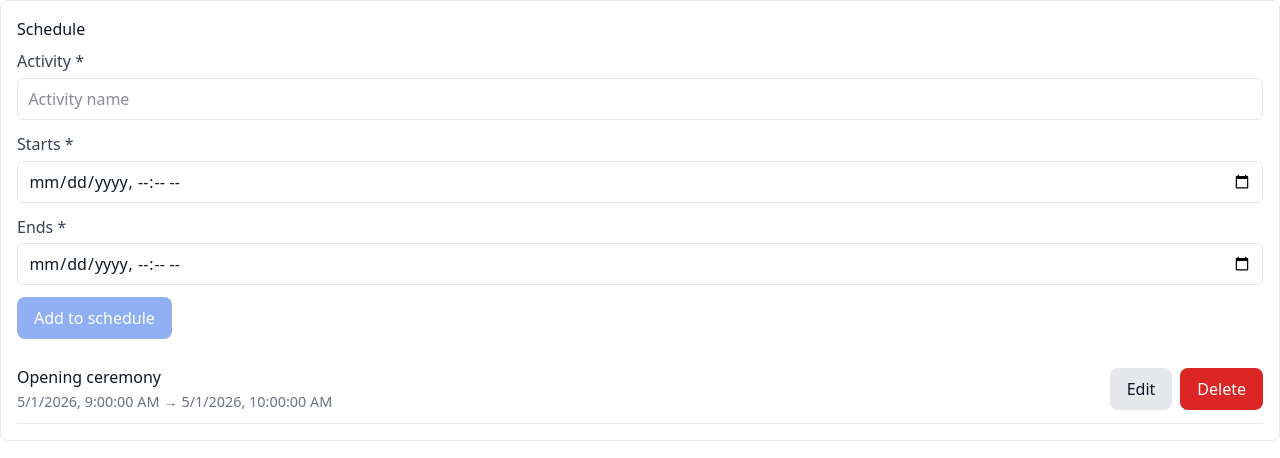
Scenario: ScheduleSection › exits edit mode without saving on cancel
The image size is (1280, 458).
Click the button with test id "schedule-edit-s1" at [1141, 389], box [1110,368,1172,410]
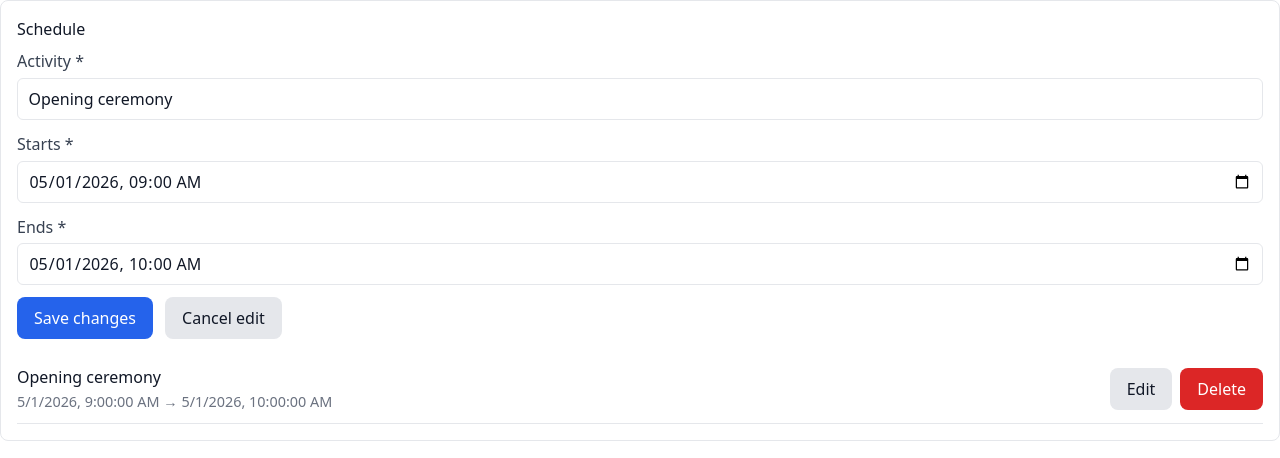
Check: the button with test id "schedule-cancel-edit" is shown
Click the button with test id "schedule-cancel-edit" at [223, 318], box [165,297,282,339]
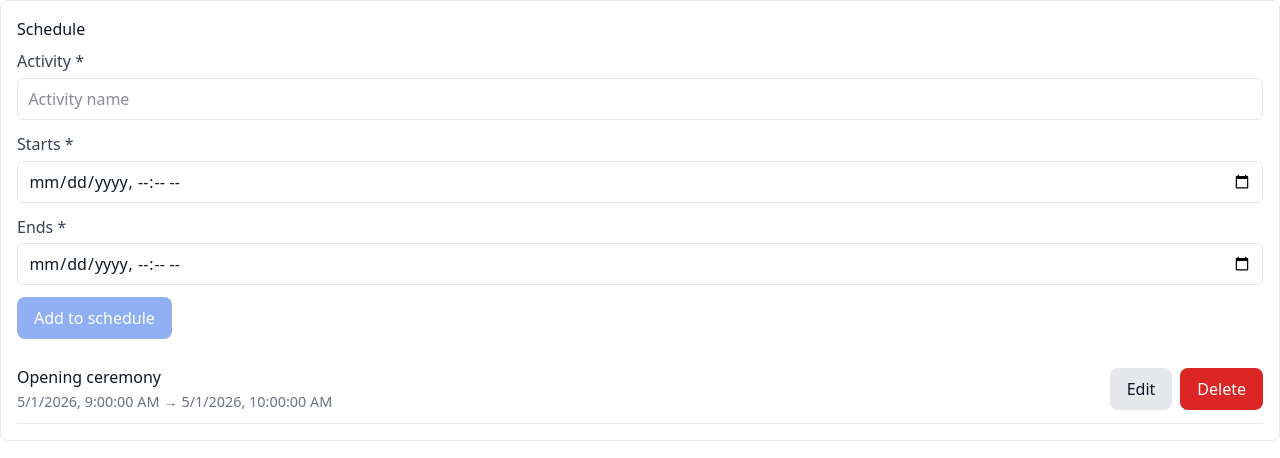
Check: the field with test id "schedule-activity" is empty, box [17,78,1263,120]
